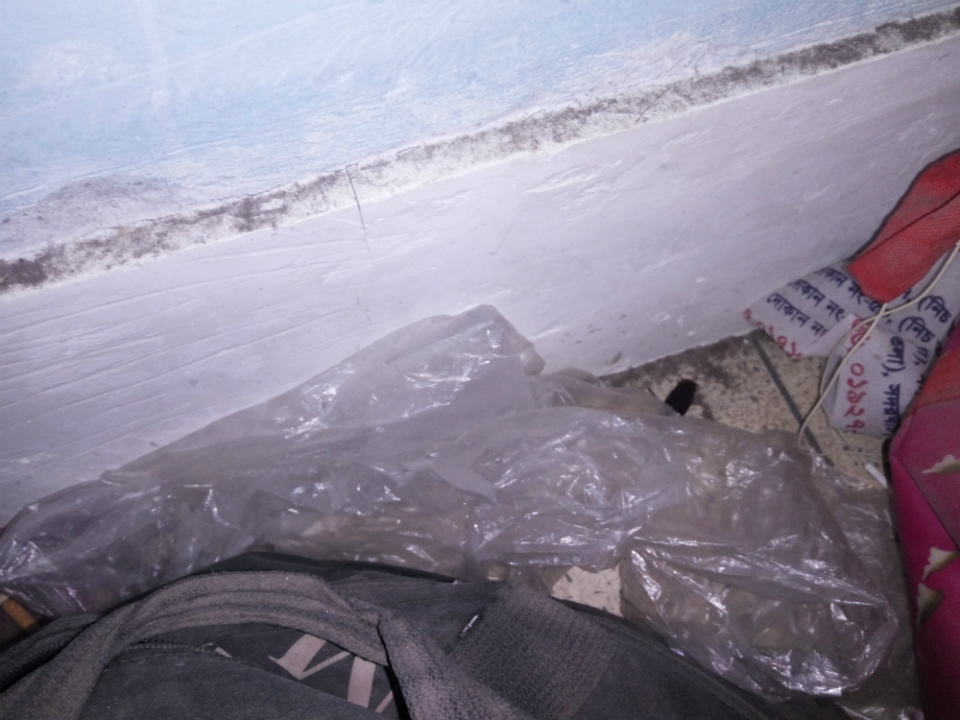cockroach: (633, 329, 728, 417)
